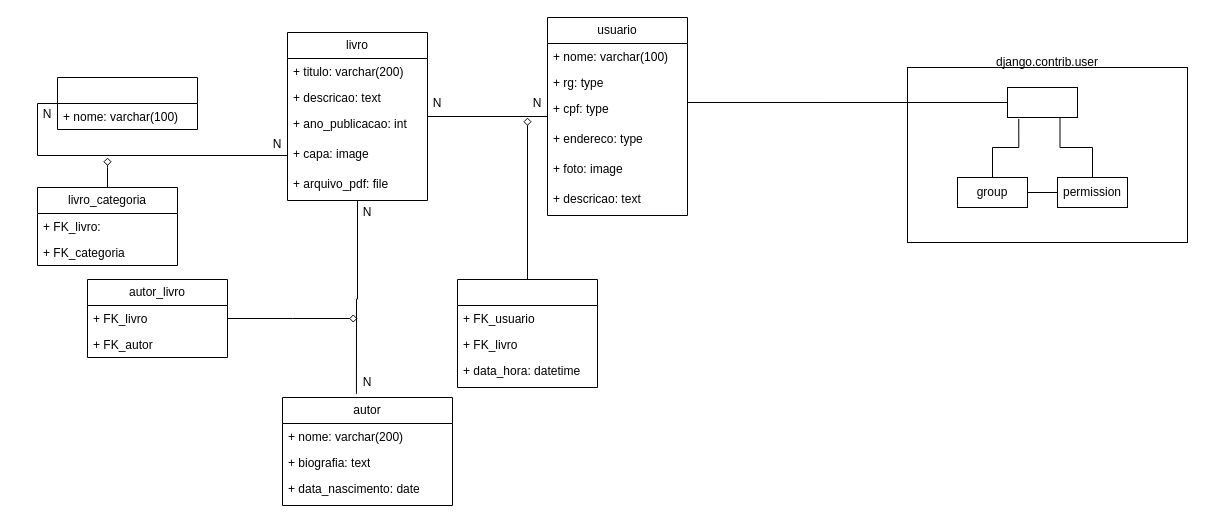
This 1205x526 diagram has some shape labels left out. Here are the shapes that lost their labels. From the top down, the box of each, then its label:
(56, 76, 198, 130): categoria
(1006, 86, 1078, 118): user
(456, 278, 598, 388): usuario_livro
